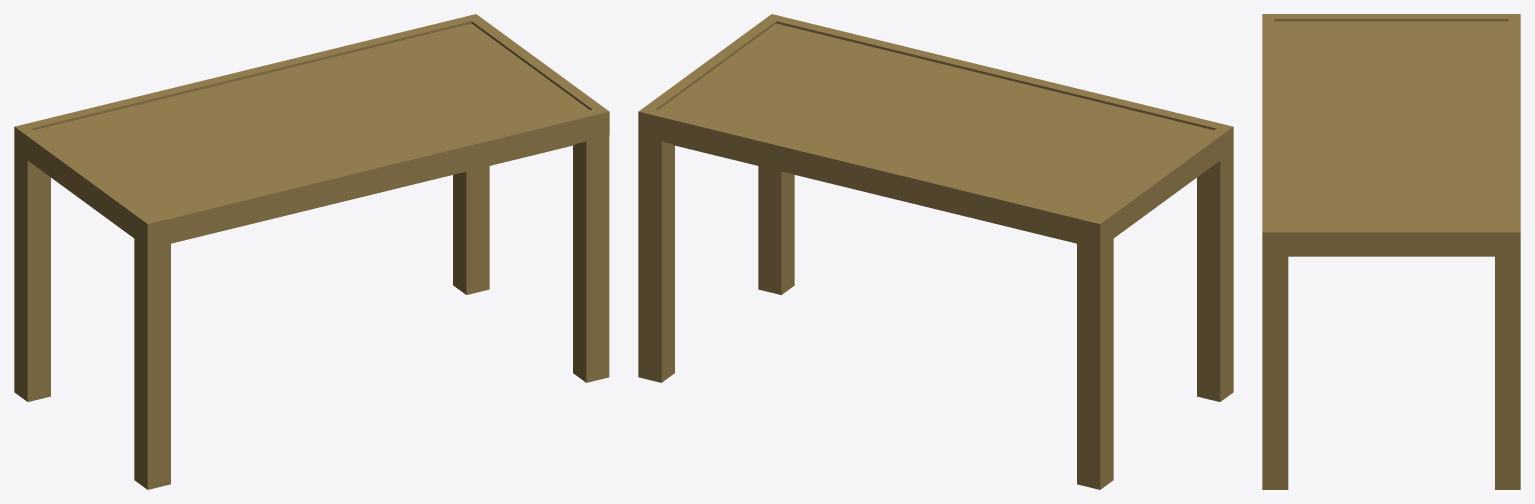
Rendered from eettafel c.fbx.
The picture shows the model from 3 angles, left to right: view 1: azimuth 30°, elevation 25°; view 2: azimuth 150°, elevation 25°; view 3: azimuth 270°, elevation 25°; orthographic projection. The views are drawn at different scales.
Visible parts, largest first — view 1: Cube, Cube.004, Cube.005, Cube.003, Cube.002, Cube.001; view 2: Cube, Cube.003, Cube.002, Cube.004, Cube.005, Cube.001; view 3: Cube, Cube.005, Cube.002, Cube.001.
Boxes of the visible parts, <box> form: Cube: <box>14,14,609,248</box>; Cube.004: <box>134,239,170,489</box>; Cube.005: <box>573,136,609,382</box>; Cube.003: <box>14,151,50,401</box>; Cube.002: <box>453,166,489,294</box>; Cube.001: <box>171,144,575,243</box>; Cube: <box>638,14,1233,248</box>; Cube.003: <box>1077,239,1113,489</box>; Cube.002: <box>638,135,674,382</box>; Cube.004: <box>1197,151,1233,401</box>; Cube.005: <box>758,166,794,294</box>; Cube.001: <box>672,144,1076,243</box>; Cube: <box>1262,14,1520,255</box>; Cube.005: <box>1262,255,1288,489</box>; Cube.002: <box>1495,255,1520,489</box>; Cube.001: <box>1288,255,1494,256</box>.
Size of the model in its own units: 200 by 110 by 100.
